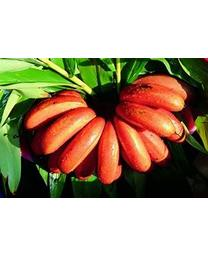banana: (10, 61, 205, 192)
